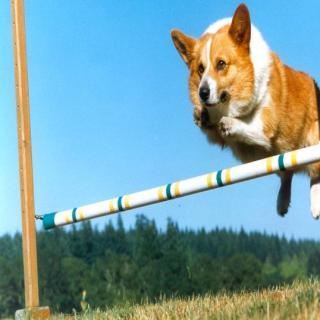dog: (170, 9, 268, 128)
nose: (197, 85, 212, 101)
